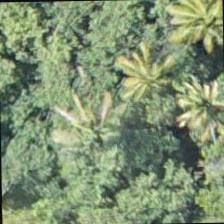Kelapa_Sawit: (46, 90, 138, 182), (100, 34, 191, 126), (151, 69, 223, 161), (165, 0, 223, 73)
